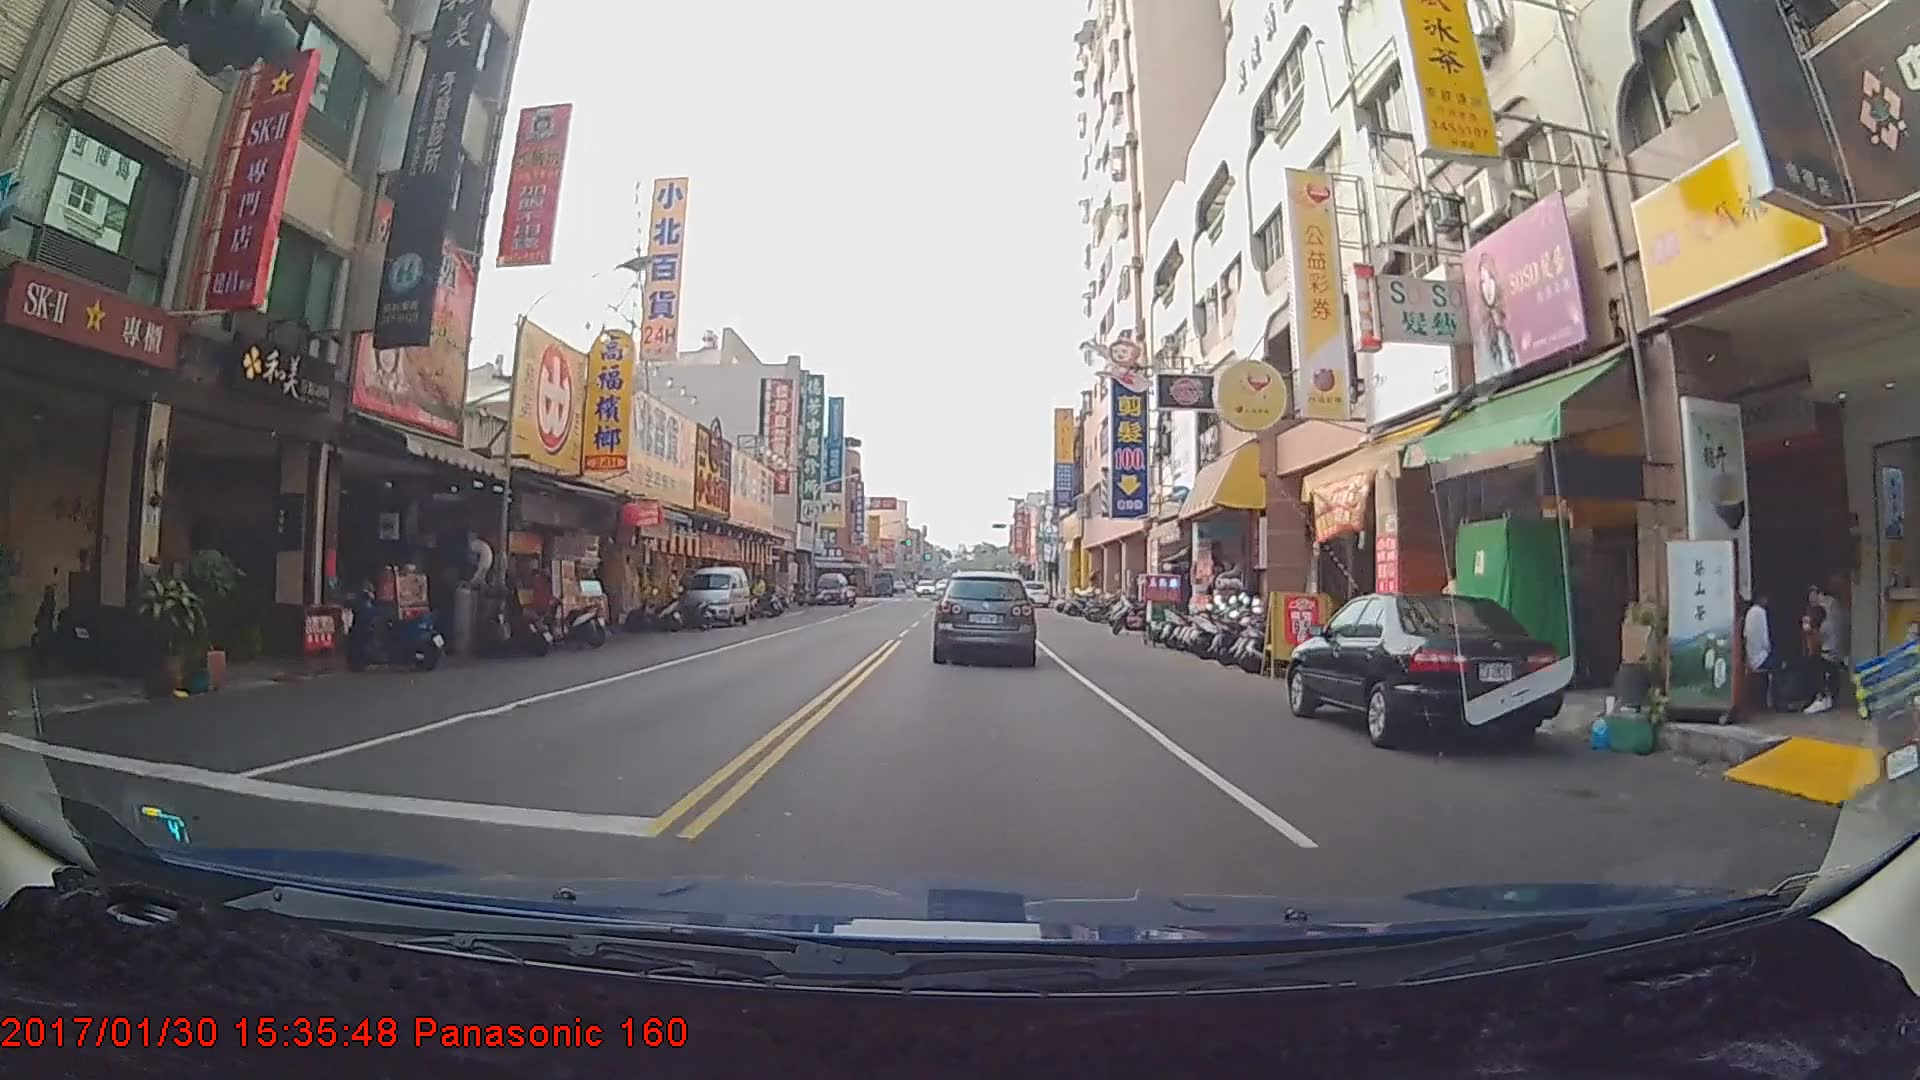pedestrian: (1802, 576, 1851, 720), (1741, 579, 1794, 711)
vehicle: (1285, 590, 1559, 747), (934, 572, 1035, 664), (681, 567, 750, 629), (815, 569, 845, 604), (1017, 574, 1049, 602)
